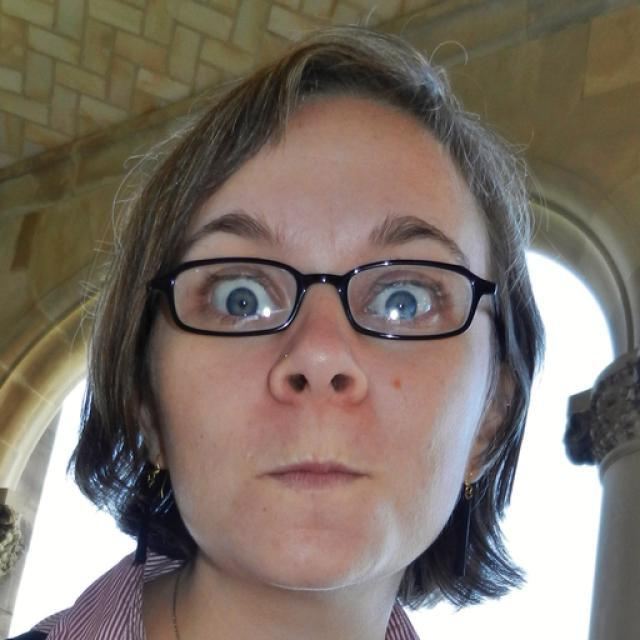fear: (156, 114, 505, 592)
